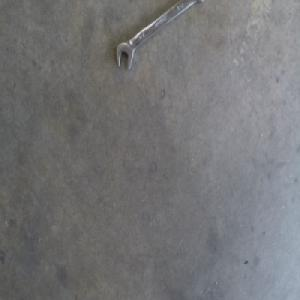Wrench: (116, 0, 196, 69)
